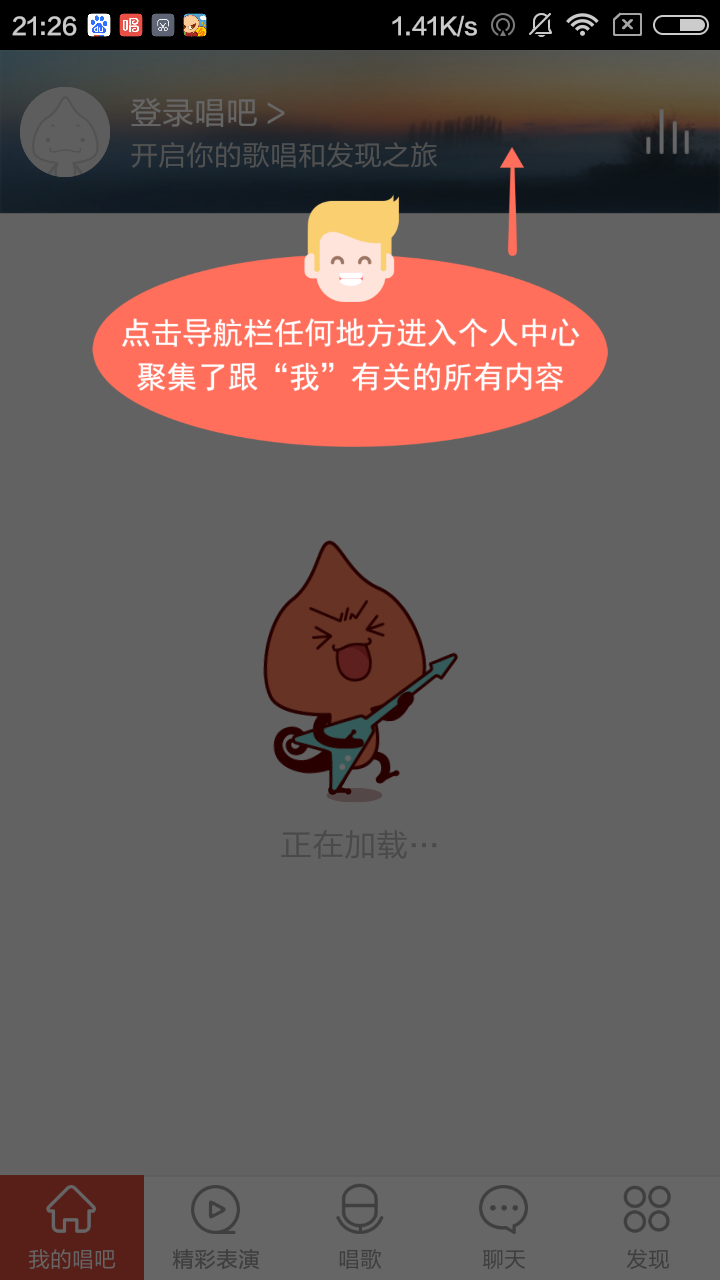alert: (57, 210, 618, 491)
nav: (8, 1178, 707, 1280)
